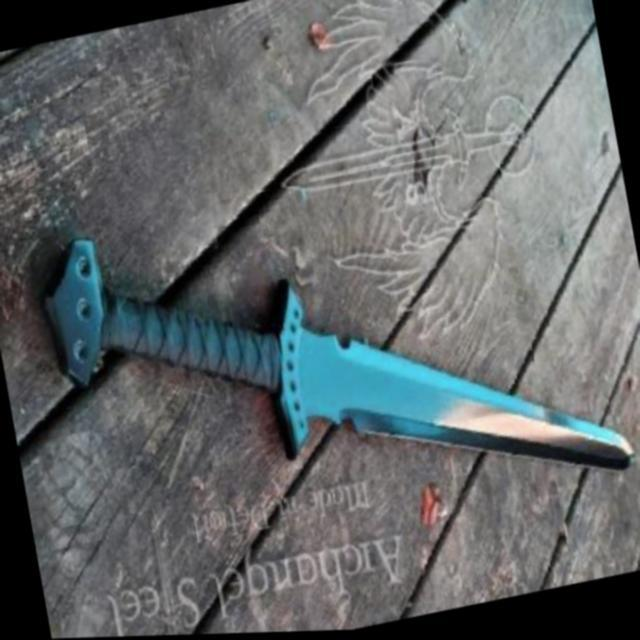weapon: (30, 122, 640, 601)
